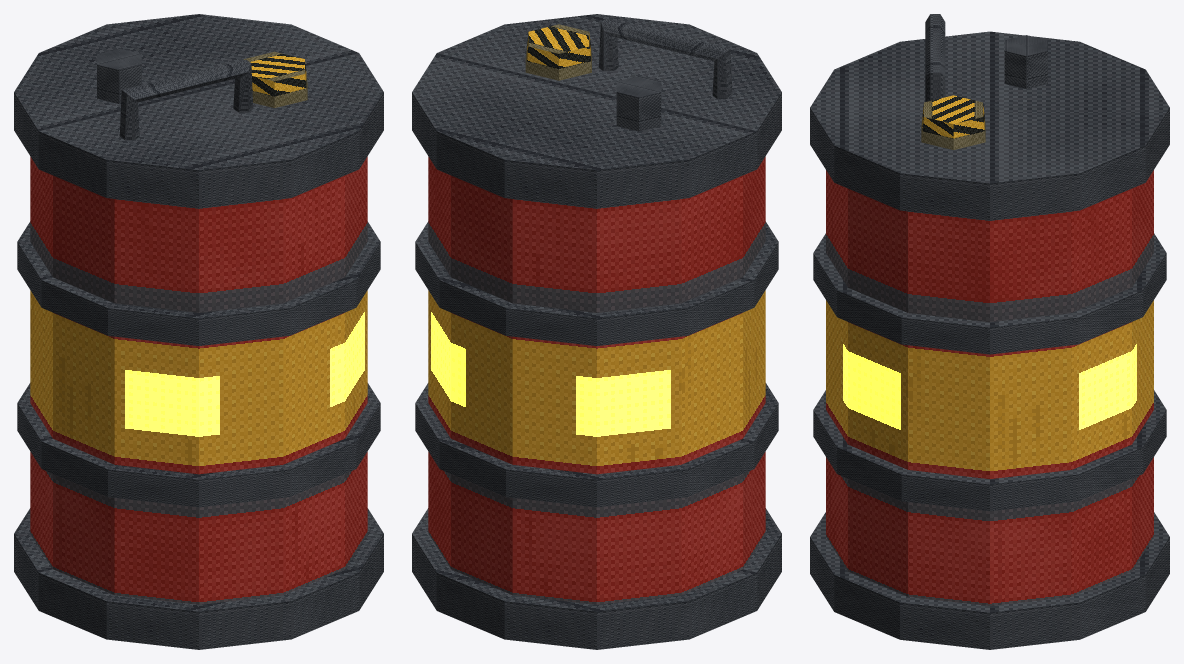
File: plasma_barrel.glb
The picture shows the model from 3 angles, left to right: view 1: azimuth 30°, elevation 25°; view 2: azimuth 150°, elevation 25°; view 3: azimuth 270°, elevation 25°; orthographic projection. The views are drawn at different scales.
Parts seen in each view (by area): view 1: plasma_barrel__mil_plasma_drum, plasma_barrel__mil_dark_steel, plasma_barrel__mil_hazard_trim; view 2: plasma_barrel__mil_plasma_drum, plasma_barrel__mil_dark_steel, plasma_barrel__mil_hazard_trim; view 3: plasma_barrel__mil_plasma_drum, plasma_barrel__mil_dark_steel, plasma_barrel__mil_hazard_trim.
Part boxes in pixels (left/top/right/bottom): plasma_barrel__mil_plasma_drum: left=30, top=156, right=367, bottom=604; plasma_barrel__mil_dark_steel: left=14, top=14, right=383, bottom=649; plasma_barrel__mil_hazard_trim: left=244, top=51, right=307, bottom=107; plasma_barrel__mil_plasma_drum: left=428, top=156, right=765, bottom=604; plasma_barrel__mil_dark_steel: left=412, top=14, right=781, bottom=649; plasma_barrel__mil_hazard_trim: left=525, top=24, right=591, bottom=80; plasma_barrel__mil_plasma_drum: left=826, top=170, right=1153, bottom=605; plasma_barrel__mil_dark_steel: left=810, top=14, right=1169, bottom=649; plasma_barrel__mil_hazard_trim: left=921, top=95, right=985, bottom=149.
Size of the model in its own units: 0.79 by 1.24 by 0.79.
Materials: 3 (3 with a texture image).
